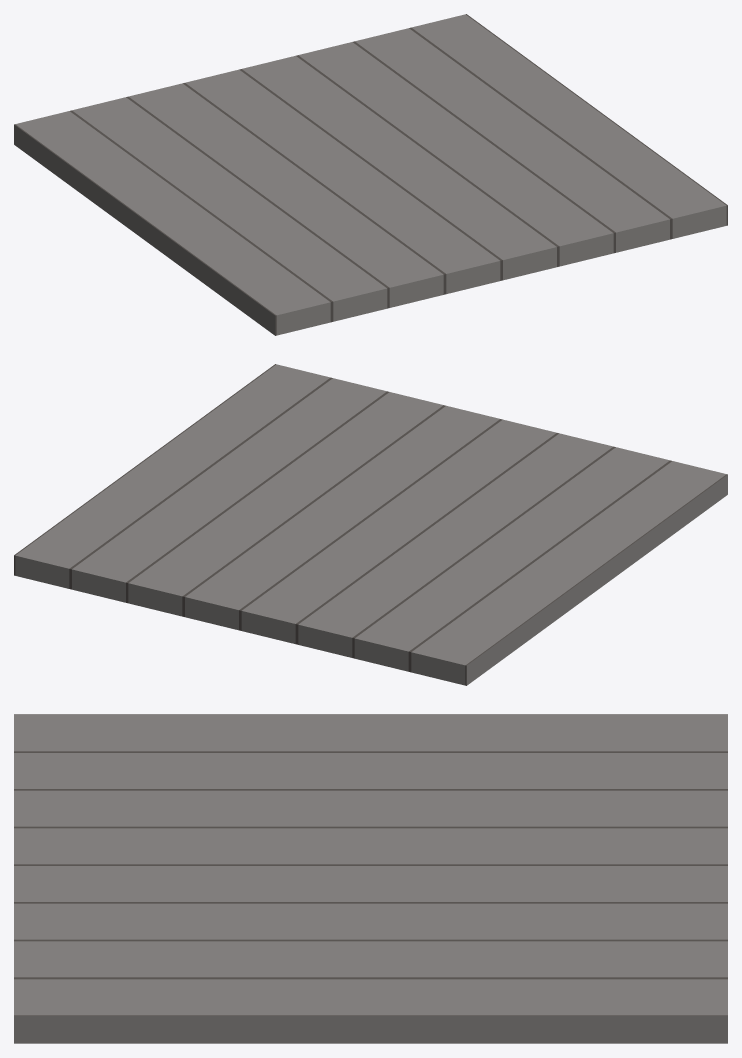
Rendered from Floor_06.fbx.
3 renders of one model, top to bottom at view 1: azimuth 30°, elevation 25°; view 2: azimuth 150°, elevation 25°; view 3: azimuth 270°, elevation 25°, orthographic. The views are drawn at different scales.
Parts seen in each view (by area): view 1: Floor_06; view 2: Floor_06; view 3: Floor_06.
Part boxes in pixels (x1,y1,x2,y2): Floor_06: (14, 14, 727, 335); Floor_06: (14, 364, 727, 685); Floor_06: (14, 714, 727, 1043).
Bounding box in the file's own units: 259 × 11.07 × 259.
